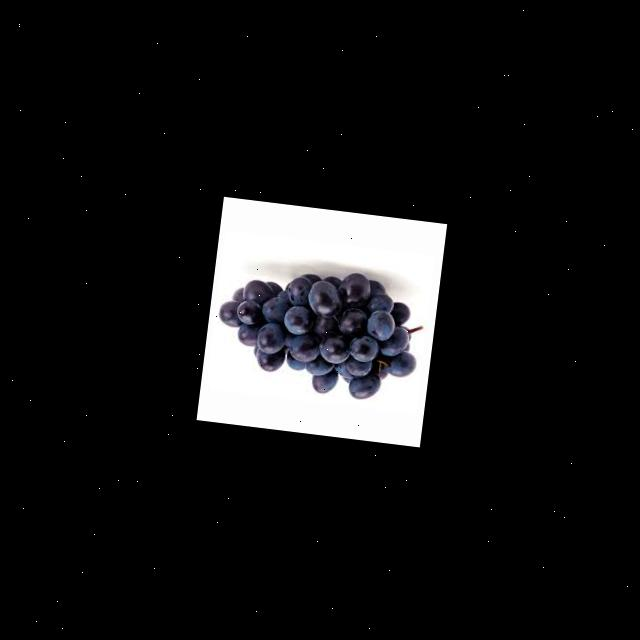grape: (209, 255, 427, 406)
